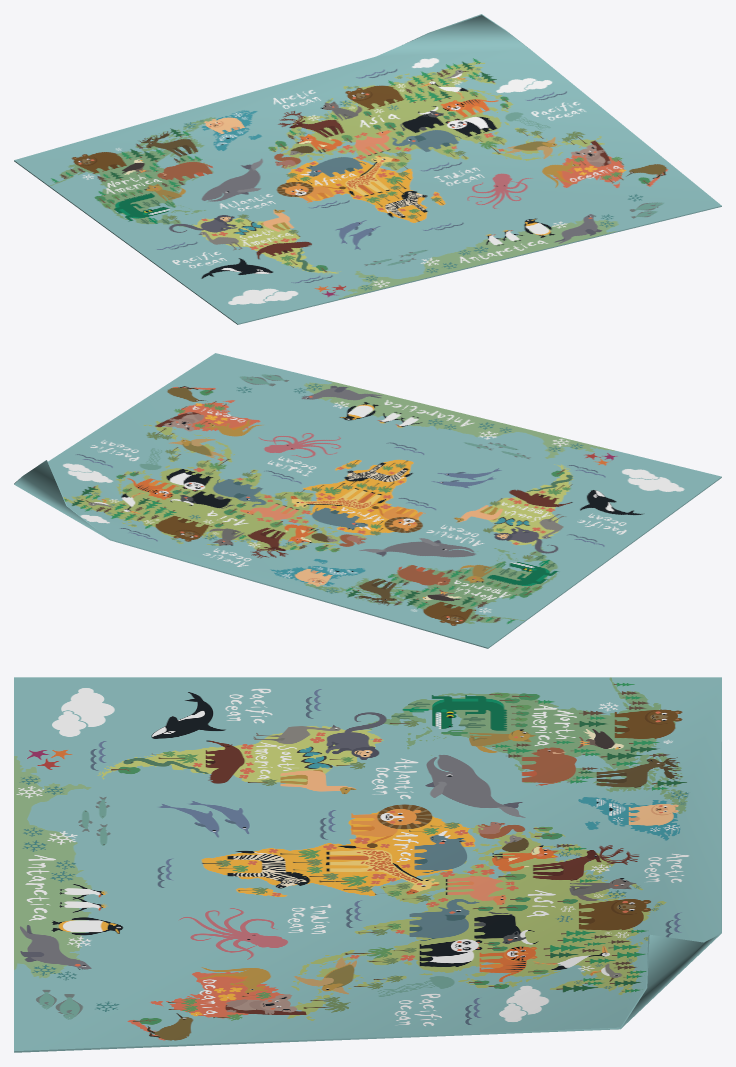
The model's file is L2_world_map.fbx.
The picture shows the model from 3 angles, top to bottom: view 1: azimuth 30°, elevation 25°; view 2: azimuth 150°, elevation 25°; view 3: azimuth 270°, elevation 25°; orthographic projection. The views are drawn at different scales.
Parts seen in each view (by area): view 1: Box007; view 2: Box007; view 3: Box007.
Part boxes in pixels (<box>): Box007: <box>14,14,721,324</box>; Box007: <box>14,353,721,648</box>; Box007: <box>14,677,721,1052</box>.
Size of the model in its own units: 39.45 by 4.31 by 31.5.
Materials: 1 (1 with a texture image).
